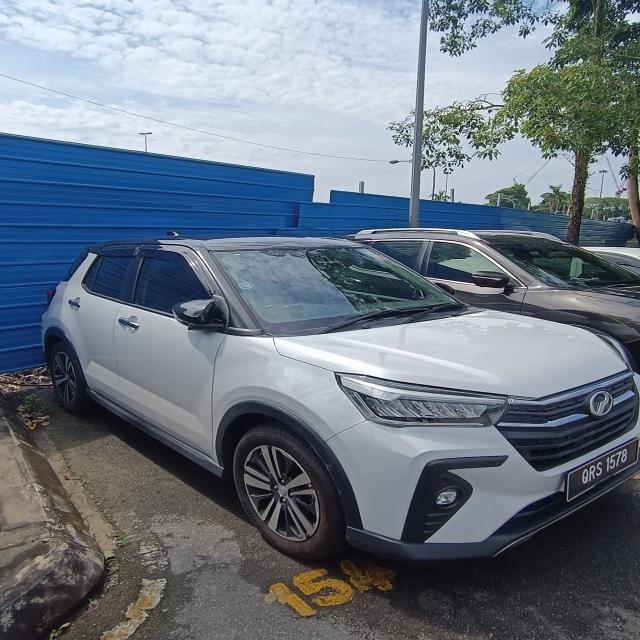PeroduaAtiva: (39, 231, 639, 564)
